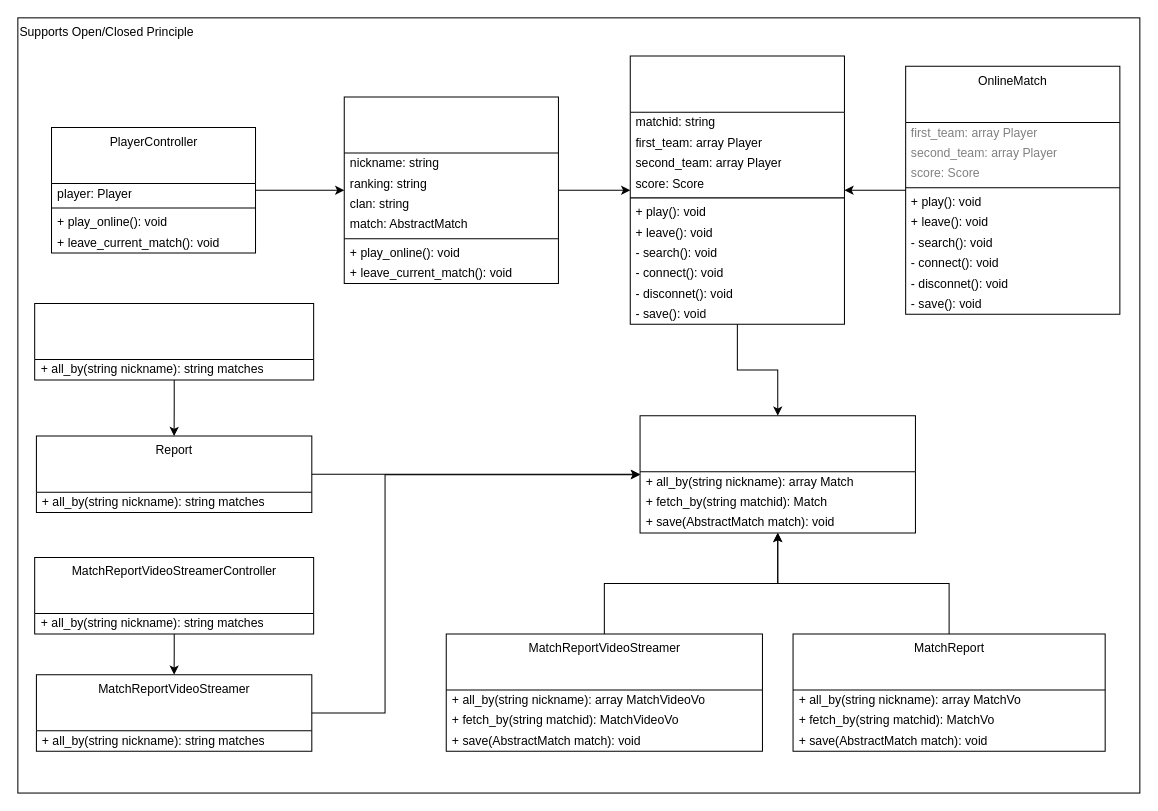
This 1158x811 diagram has some shape labels left out. The shapes that lost their labels are listed below. From the top down, each one's box as (x1, y1, x2, y2) in pixels, then its label:
(343, 96, 558, 284): Player
(629, 55, 844, 324): AbstractMatch
(34, 302, 314, 380): MatchReportController
(639, 415, 915, 533): AbstractReport
